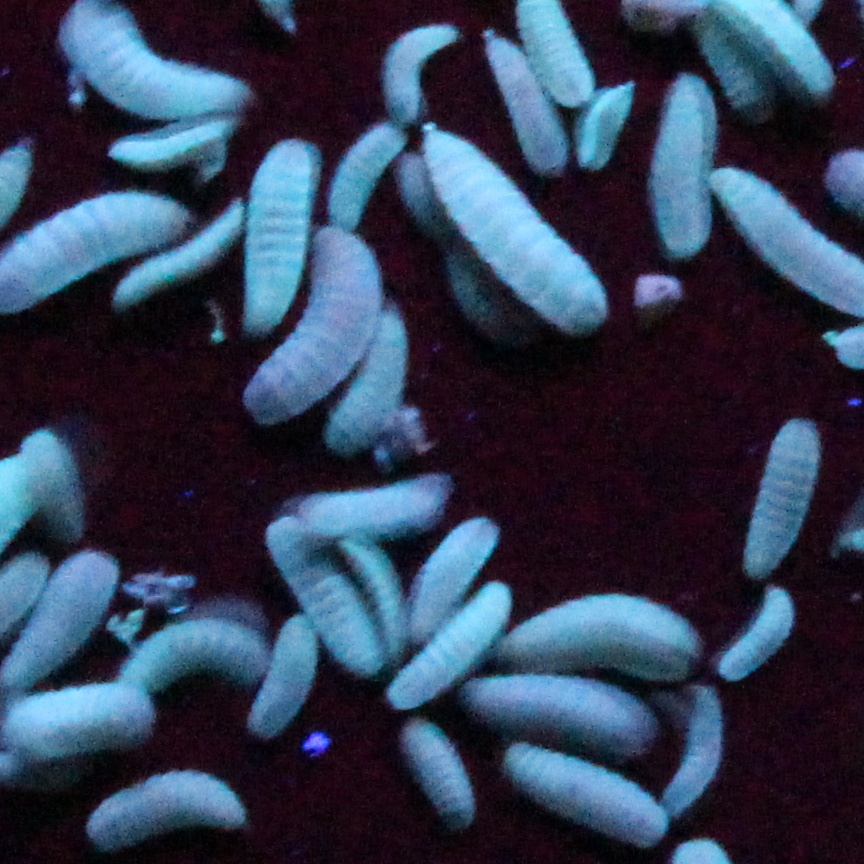larve: (419, 125, 609, 336), (248, 236, 392, 419), (58, 3, 250, 113), (264, 521, 376, 670), (394, 585, 517, 717), (527, 595, 705, 685), (5, 550, 111, 697), (468, 678, 660, 758), (119, 199, 246, 309), (246, 140, 319, 327), (746, 415, 829, 577), (521, 760, 664, 848), (94, 774, 246, 852), (484, 31, 562, 176), (333, 303, 411, 448), (125, 619, 264, 697), (656, 76, 709, 262), (419, 517, 497, 638), (296, 470, 448, 529), (256, 605, 323, 727), (719, 589, 797, 685), (23, 429, 88, 544), (346, 532, 403, 662), (390, 15, 456, 113), (331, 121, 397, 219), (578, 82, 646, 172), (672, 701, 723, 809), (105, 121, 233, 158)
